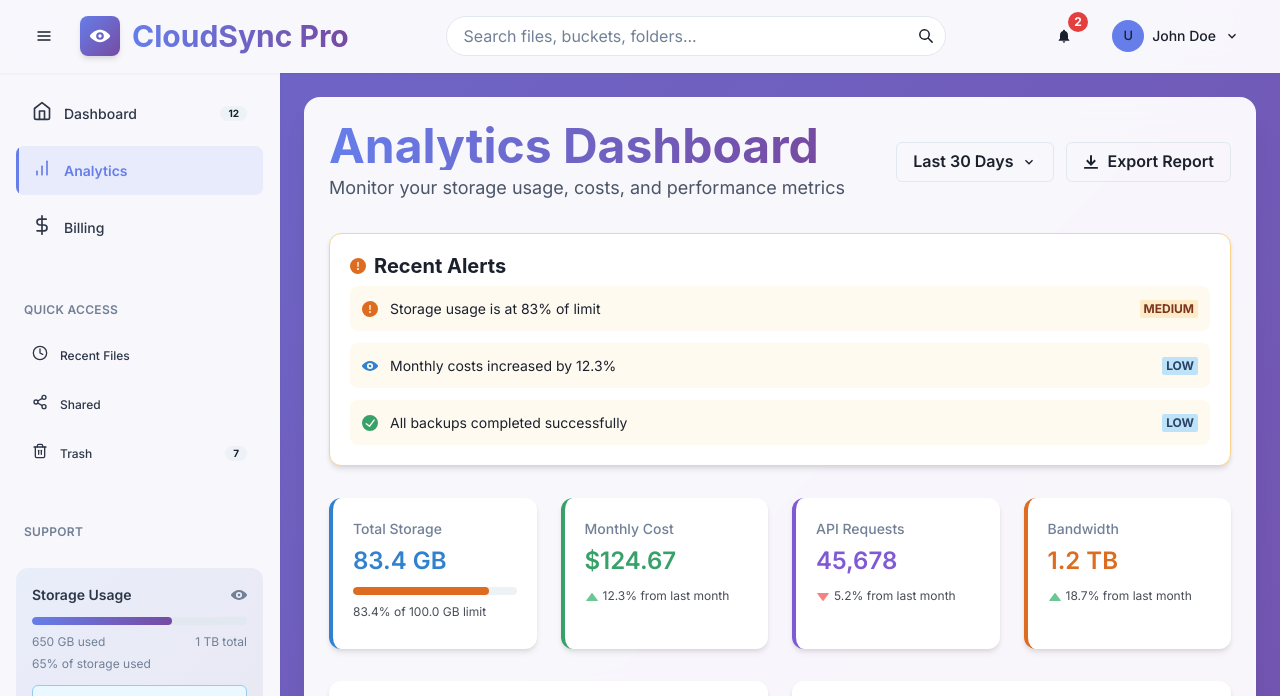
Test: Analytics Page › Period Selector and Controls › should display period selector with correct options
What coordinates should you click on to do the following:
click the button with test id "analytics_period_selector"
I would click on:
 (975, 162)
Its box is [896,142,1054,182].
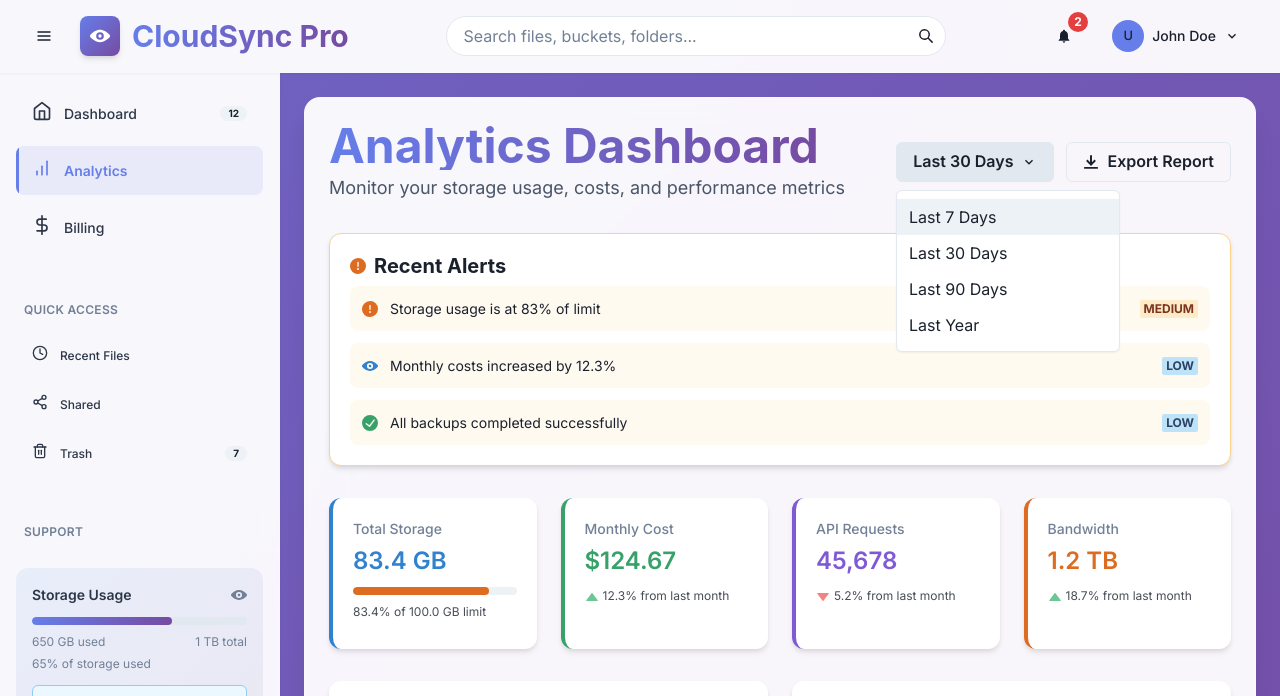
Check: the menu with test id "period_options" is shown, box [896,190,1120,352]
Check: the menu item with test id "period_7d" reads "Last 7 Days", box [897,199,1119,235]
Check: the menu item with test id "period_30d" reads "Last 30 Days", box [897,235,1119,271]
